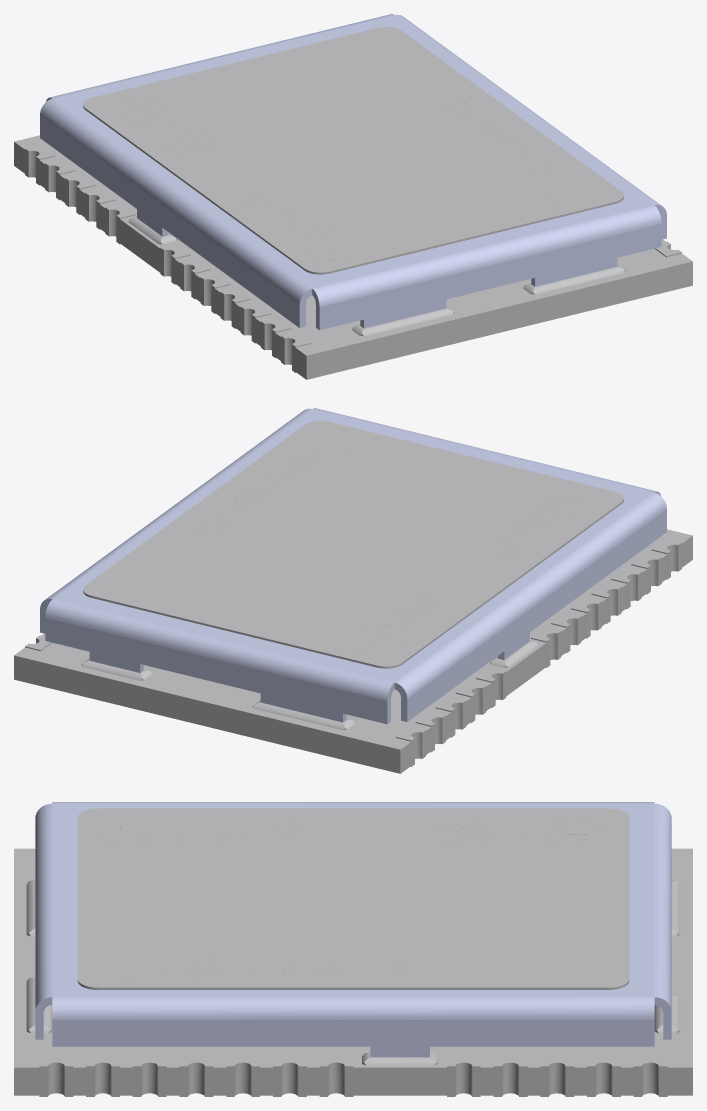
Rendered from sfe-neo.glb.
3 renders of one model, top to bottom at view 1: azimuth 30°, elevation 25°; view 2: azimuth 150°, elevation 25°; view 3: azimuth 270°, elevation 25°, orthographic. The views are drawn at different scales.
Visible parts, largest first — view 1: 0.5833333333333334_0.5833333333333334_0.5833333333333334_0.8, 0.5833333333333334_0.6666666666666666_0.8333333333333334_0; view 2: 0.5833333333333334_0.5833333333333334_0.5833333333333334_0.8, 0.5833333333333334_0.6666666666666666_0.8333333333333334_0; view 3: 0.5833333333333334_0.5833333333333334_0.5833333333333334_0.8, 0.5833333333333334_0.6666666666666666_0.8333333333333334_0.
Part boxes in pixels (left/top/right/bottom): 0.5833333333333334_0.5833333333333334_0.5833333333333334_0.8: left=14, top=27, right=692, bottom=379; 0.5833333333333334_0.6666666666666666_0.8333333333333334_0: left=40, top=14, right=666, bottom=330; 0.5833333333333334_0.5833333333333334_0.5833333333333334_0.8: left=14, top=421, right=692, bottom=773; 0.5833333333333334_0.6666666666666666_0.8333333333333334_0: left=40, top=408, right=666, bottom=724; 0.5833333333333334_0.5833333333333334_0.5833333333333334_0.8: left=14, top=808, right=692, bottom=1096; 0.5833333333333334_0.6666666666666666_0.8333333333333334_0: left=35, top=802, right=671, bottom=1057.
Bounding box in the file's own units: 1.22 × 0.2326 × 1.6.
